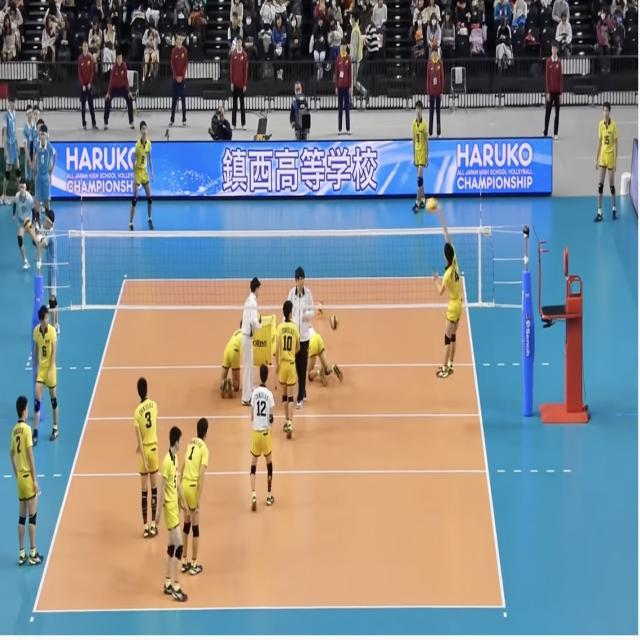spike: (417, 190, 468, 384)
